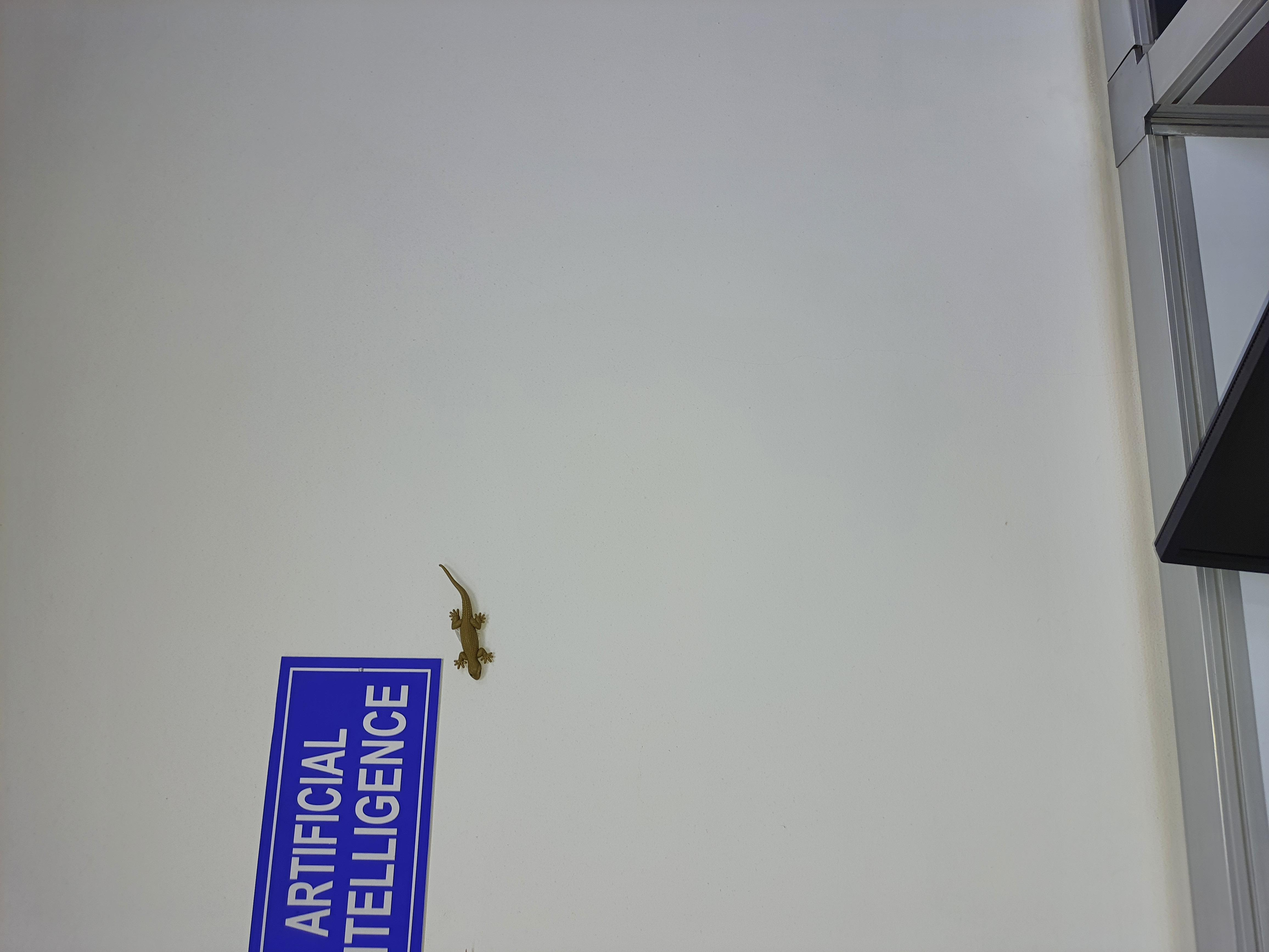lizard: (337, 328, 536, 381)
